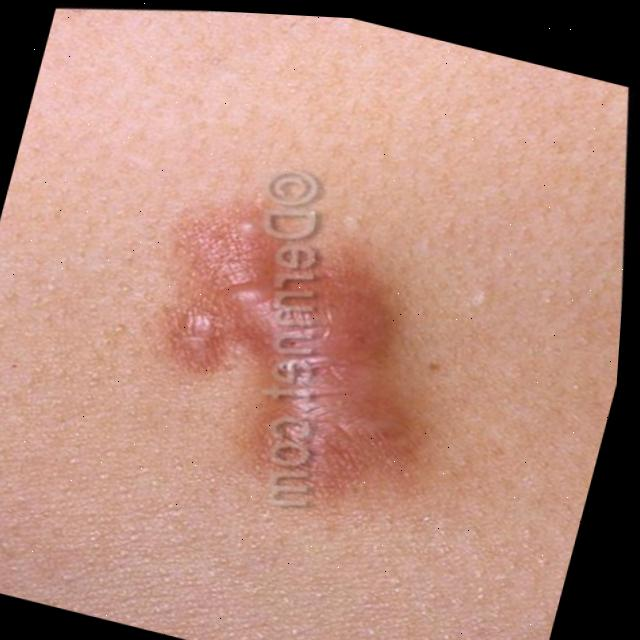Eczema: (193, 234, 407, 473)
